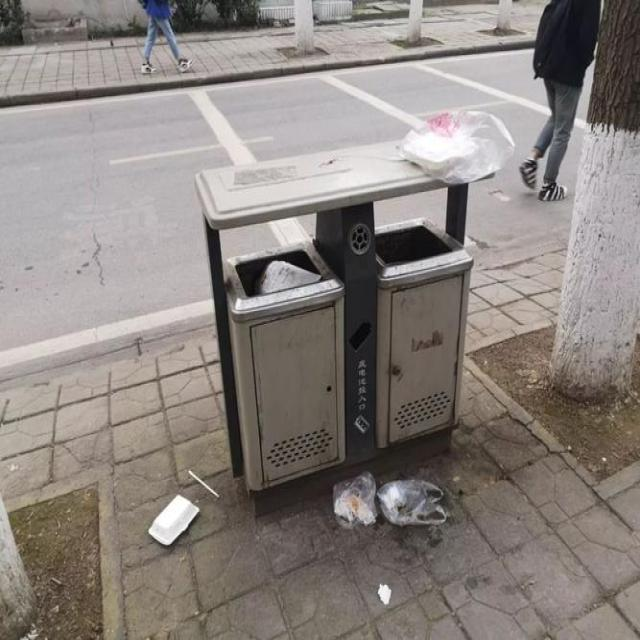garbage: (330, 469, 445, 526), (147, 468, 219, 546)
overflow: (191, 109, 514, 513)
